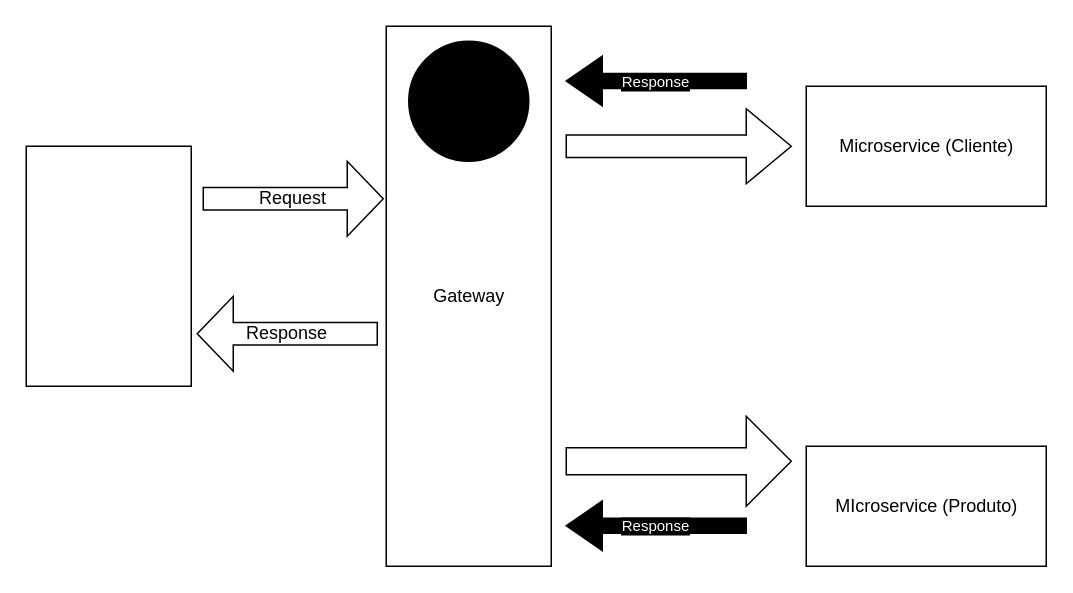
Image size: 1073x593. Some labels were removed from this diagram. The shapes that lost their labels are listed below. From the top down, each one's centre as x and y in pixels, then its label:
At point 468,100: "Services discovery".
At point 678,145: "Routing to Micro 1".
At point 108,265: "client".
At point 678,460: "Routing to Micro 2".
